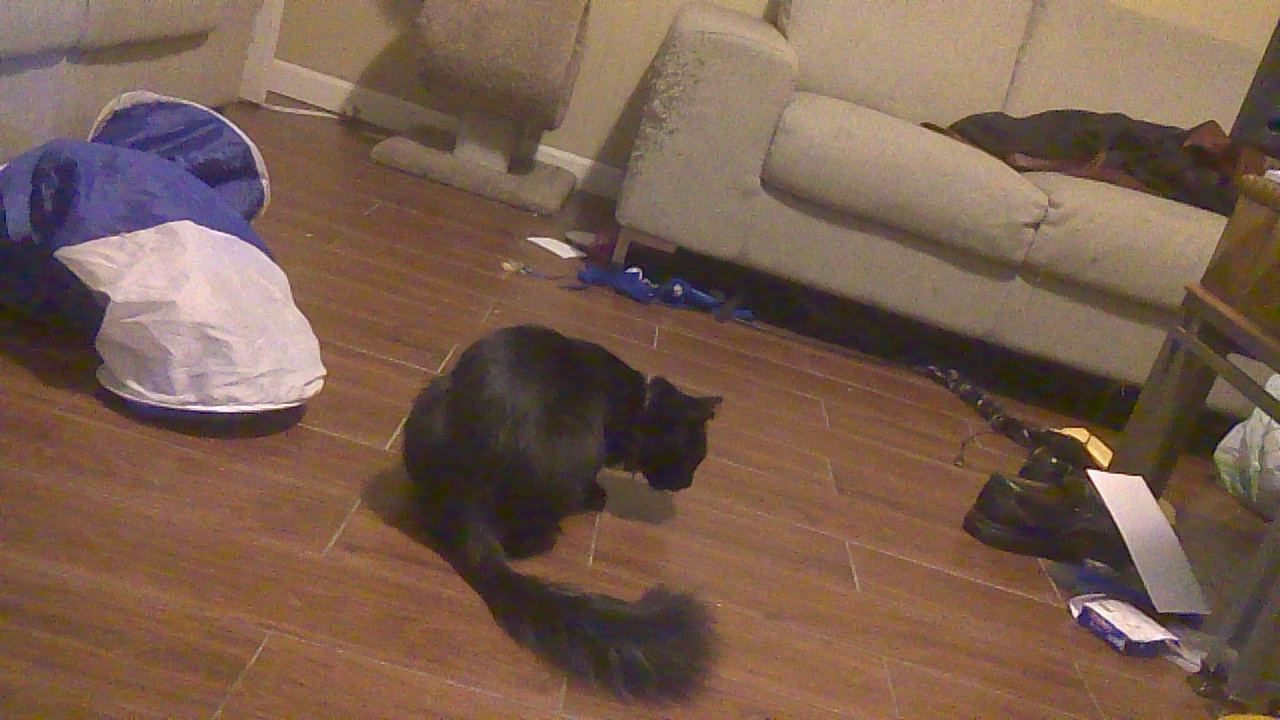cat: (373, 310, 733, 705)
